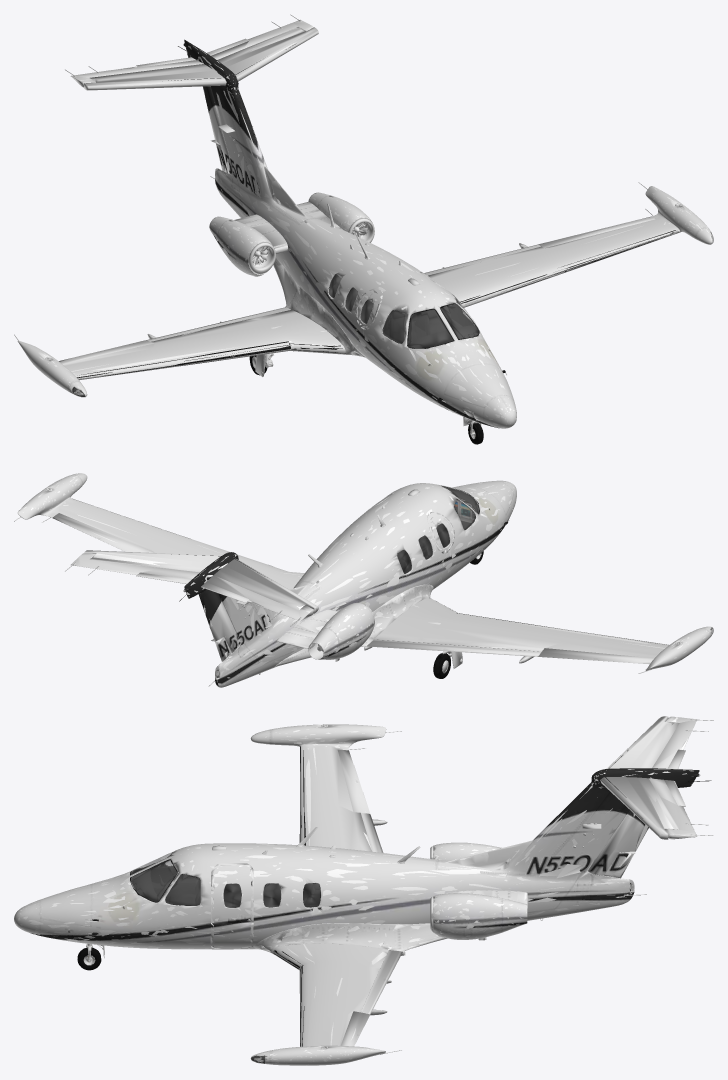
3 renders of one model, top to bottom at view 1: azimuth 30°, elevation 25°; view 2: azimuth 150°, elevation 25°; view 3: azimuth 270°, elevation 25°, orthographic. The views are drawn at different scales.
Parts seen in each view (by area): view 1: tire_lndg_rear_l_in.011, tire_lndg_rear_l_in.026, tire_lndg_rear_l_in.033, tire_lndg_rear_l_in.031, tire_lndg_rear_l_in.030, tire_lndg_rear_l_in.044, tire_lndg_rear_l_in.032; view 2: tire_lndg_rear_l_in.011, tire_lndg_rear_l_in.026, tire_lndg_rear_l_in.033, tire_lndg_rear_l_in.030, tire_lndg_rear_l_in.044, tire_lndg_rear_l_in.031, tire_lndg_rear_l_in.041; view 3: tire_lndg_rear_l_in.011, tire_lndg_rear_l_in.026, tire_lndg_rear_l_in.033, tire_lndg_rear_l_in.030, tire_lndg_rear_l_in.031, tire_lndg_rear_l_in.044, tire_lndg_rear_l_in.032.
Part boxes in pixels (bbox=[...]): tire_lndg_rear_l_in.011: bbox=[17, 20, 712, 428]; tire_lndg_rear_l_in.026: bbox=[30, 28, 712, 427]; tire_lndg_rear_l_in.033: bbox=[328, 274, 478, 347]; tire_lndg_rear_l_in.031: bbox=[72, 44, 711, 400]; tire_lndg_rear_l_in.030: bbox=[329, 274, 478, 347]; tire_lndg_rear_l_in.044: bbox=[14, 14, 652, 439]; tire_lndg_rear_l_in.032: bbox=[45, 178, 681, 402]; tire_lndg_rear_l_in.011: bbox=[17, 473, 712, 687]; tire_lndg_rear_l_in.026: bbox=[18, 473, 709, 686]; tire_lndg_rear_l_in.033: bbox=[397, 486, 478, 573]; tire_lndg_rear_l_in.030: bbox=[397, 486, 479, 573]; tire_lndg_rear_l_in.044: bbox=[14, 489, 651, 686]; tire_lndg_rear_l_in.031: bbox=[171, 488, 712, 678]; tire_lndg_rear_l_in.041: bbox=[433, 551, 483, 678]; tire_lndg_rear_l_in.011: bbox=[14, 716, 699, 1065]; tire_lndg_rear_l_in.026: bbox=[15, 717, 698, 1065]; tire_lndg_rear_l_in.033: bbox=[131, 851, 320, 907]; tire_lndg_rear_l_in.030: bbox=[131, 860, 320, 907]; tire_lndg_rear_l_in.031: bbox=[91, 746, 711, 1063]; tire_lndg_rear_l_in.044: bbox=[83, 719, 713, 1054]; tire_lndg_rear_l_in.032: bbox=[86, 724, 633, 1059].
Bounding box in the file's own units: 11.6 × 3.29 × 10.4.
14 materials, 2 textured.
